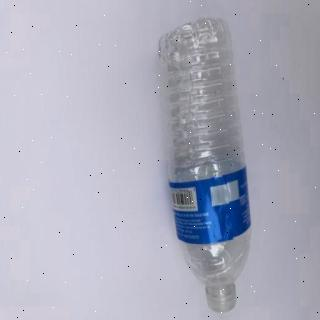Plastic-bottle: (155, 14, 256, 316)
